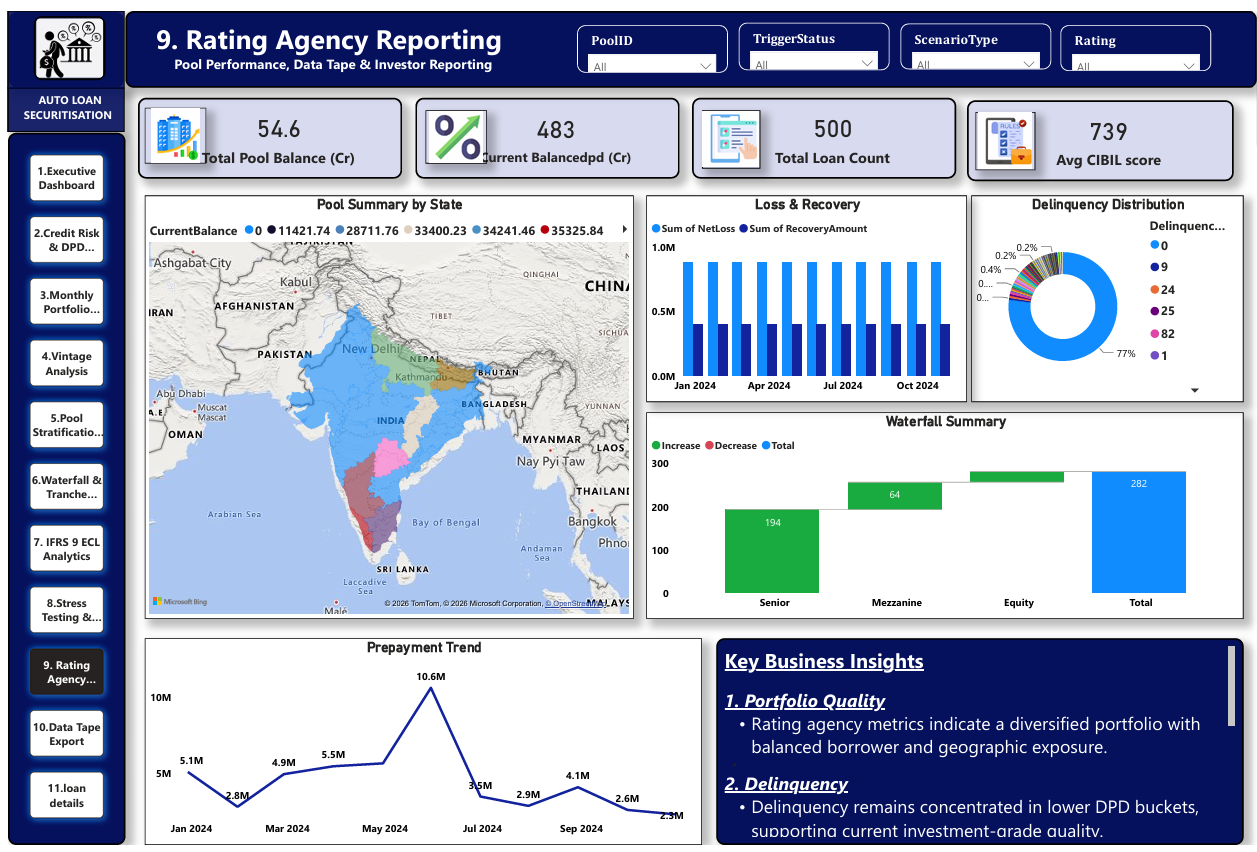

Layout of this report page (visuals, bound fields, positions):
{"tool":"powerbi","page":{"name":"9. Rating Agency Reporting","canvas":[1500,1000],"ordinal":8},"visuals":[{"type":"shape","box":[0,0,139.9,92.9],"z":0},{"type":"textbox","box":[140.8,0,1358.9,92.2],"z":1000},{"type":"image","box":[31.4,6,85.7,77.2],"z":2000},{"type":"textbox","box":[0,91.7,139.9,53.1],"z":3000},{"type":"slicer","fields":{"Values":["Stress_Testing_Data.PoolID"]},"box":[682.8,16.9,181,56.7],"z":4000},{"type":"slicer","fields":{"Values":["Stress_Testing_Data.TriggerStatus"]},"box":[877.1,14.5,181,56.7],"z":5000},{"type":"slicer","fields":{"Values":["Stress_Testing_Data.ScenarioType"]},"box":[1070.7,15.1,181,55.3],"z":6000},{"type":"card","fields":{"Values":["Loan Master.Total Pool Balance (Cr)"]},"box":[155.8,103.9,316.7,97.2],"z":7000},{"type":"card","fields":{"Values":["DPD History.Current Balancedpd (Cr)"]},"box":[489.3,103.9,316.7,97.2],"z":8000},{"type":"card","fields":{"Values":["Loan Master.Total Loan Count"]},"box":[821,103.9,316.7,97.2],"z":9000},{"type":"card","fields":{"Values":["Loan Master.Avg CIBIL score"]},"box":[1151,107.2,320,97.2],"z":10000},{"type":"pageNavigator","box":[0,145.8,140.8,854.6],"z":11000},{"type":"filledMap","title":"Pool Summary by State","fields":{"Category":["Loan Master.State"],"Series":["Loan Master.CurrentBalance"]},"box":[164.2,221.2,586.5,507.7],"z":12000},{"type":"lineChart","title":"Prepayment Trend","fields":{"Category":["Monthly Loss.ReportingDate"],"Y":["Sum(Monthly Loss.Prepayments_ThisMonth)"]},"box":[164.2,752.3,668.6,248],"z":13000},{"type":"waterfallChart","title":"Waterfall Summary","fields":{"Category":["Tranche_Data_Advanced.TrancheName"],"Y":["Tranche_Data_Advanced.Current Tranche Balance (Cr)"]},"box":[765.8,480.9,717.2,248],"z":14000},{"type":"donutChart","title":"Delinquency Distribution","fields":{"Category":["Loan Master.DelinquencyDays"],"Y":["Loan Master.Total Loan Count"]},"box":[1156.2,221.2,326.7,248],"z":15000},{"type":"slicer","fields":{"Values":["Stress_Testing_Data.Rating"]},"box":[1263.4,16.8,181,55.3],"z":16000},{"type":"clusteredColumnChart","title":"Loss & Recovery","fields":{"Category":["Monthly Loss.ReportingDate"],"Y":["Sum(Loan Master.NetLoss)","Sum(Loan Master.RecoveryAmount)"]},"box":[765.8,221.2,385.4,248],"z":17000},{"type":"image","box":[164.2,115.6,73.7,67],"z":18000},{"type":"image","box":[832.8,119,70.4,70.4],"z":19000},{"type":"image","box":[1161.2,120.6,72.1,70.4],"z":20000},{"type":"image","box":[501,119,73.7,63.7],"z":21000},{"type":"textbox","box":[849.5,752.3,633.4,248],"z":22000}]}

Visuals, with their boxes on the page's 1500x1000 design canvas (x1, y1, x2, y2). These are canvas units, not pixel positions in the 1257x852 screenshot, which may show the page scaled, cropped or inside an application window:
shape: pyautogui.locateOnScreen(0, 0, 140, 93)
textbox: pyautogui.locateOnScreen(141, 0, 1500, 92)
image: pyautogui.locateOnScreen(31, 6, 117, 83)
textbox: pyautogui.locateOnScreen(0, 92, 140, 145)
slicer - Stress_Testing_Data.PoolID: pyautogui.locateOnScreen(683, 17, 864, 74)
slicer - Stress_Testing_Data.TriggerStatus: pyautogui.locateOnScreen(877, 14, 1058, 71)
slicer - Stress_Testing_Data.ScenarioType: pyautogui.locateOnScreen(1071, 15, 1252, 70)
card - Loan Master.Total Pool Balance (Cr): pyautogui.locateOnScreen(156, 104, 472, 201)
card - DPD History.Current Balancedpd (Cr): pyautogui.locateOnScreen(489, 104, 806, 201)
card - Loan Master.Total Loan Count: pyautogui.locateOnScreen(821, 104, 1138, 201)
card - Loan Master.Avg CIBIL score: pyautogui.locateOnScreen(1151, 107, 1471, 204)
pageNavigator: pyautogui.locateOnScreen(0, 146, 141, 1000)
"Pool Summary by State" filledMap: pyautogui.locateOnScreen(164, 221, 751, 729)
"Prepayment Trend" lineChart: pyautogui.locateOnScreen(164, 752, 833, 1000)
"Waterfall Summary" waterfallChart: pyautogui.locateOnScreen(766, 481, 1483, 729)
"Delinquency Distribution" donutChart: pyautogui.locateOnScreen(1156, 221, 1483, 469)
slicer - Stress_Testing_Data.Rating: pyautogui.locateOnScreen(1263, 17, 1444, 72)
"Loss & Recovery" clusteredColumnChart: pyautogui.locateOnScreen(766, 221, 1151, 469)
image: pyautogui.locateOnScreen(164, 116, 238, 183)
image: pyautogui.locateOnScreen(833, 119, 903, 189)
image: pyautogui.locateOnScreen(1161, 121, 1233, 191)
image: pyautogui.locateOnScreen(501, 119, 575, 183)
textbox: pyautogui.locateOnScreen(850, 752, 1483, 1000)
